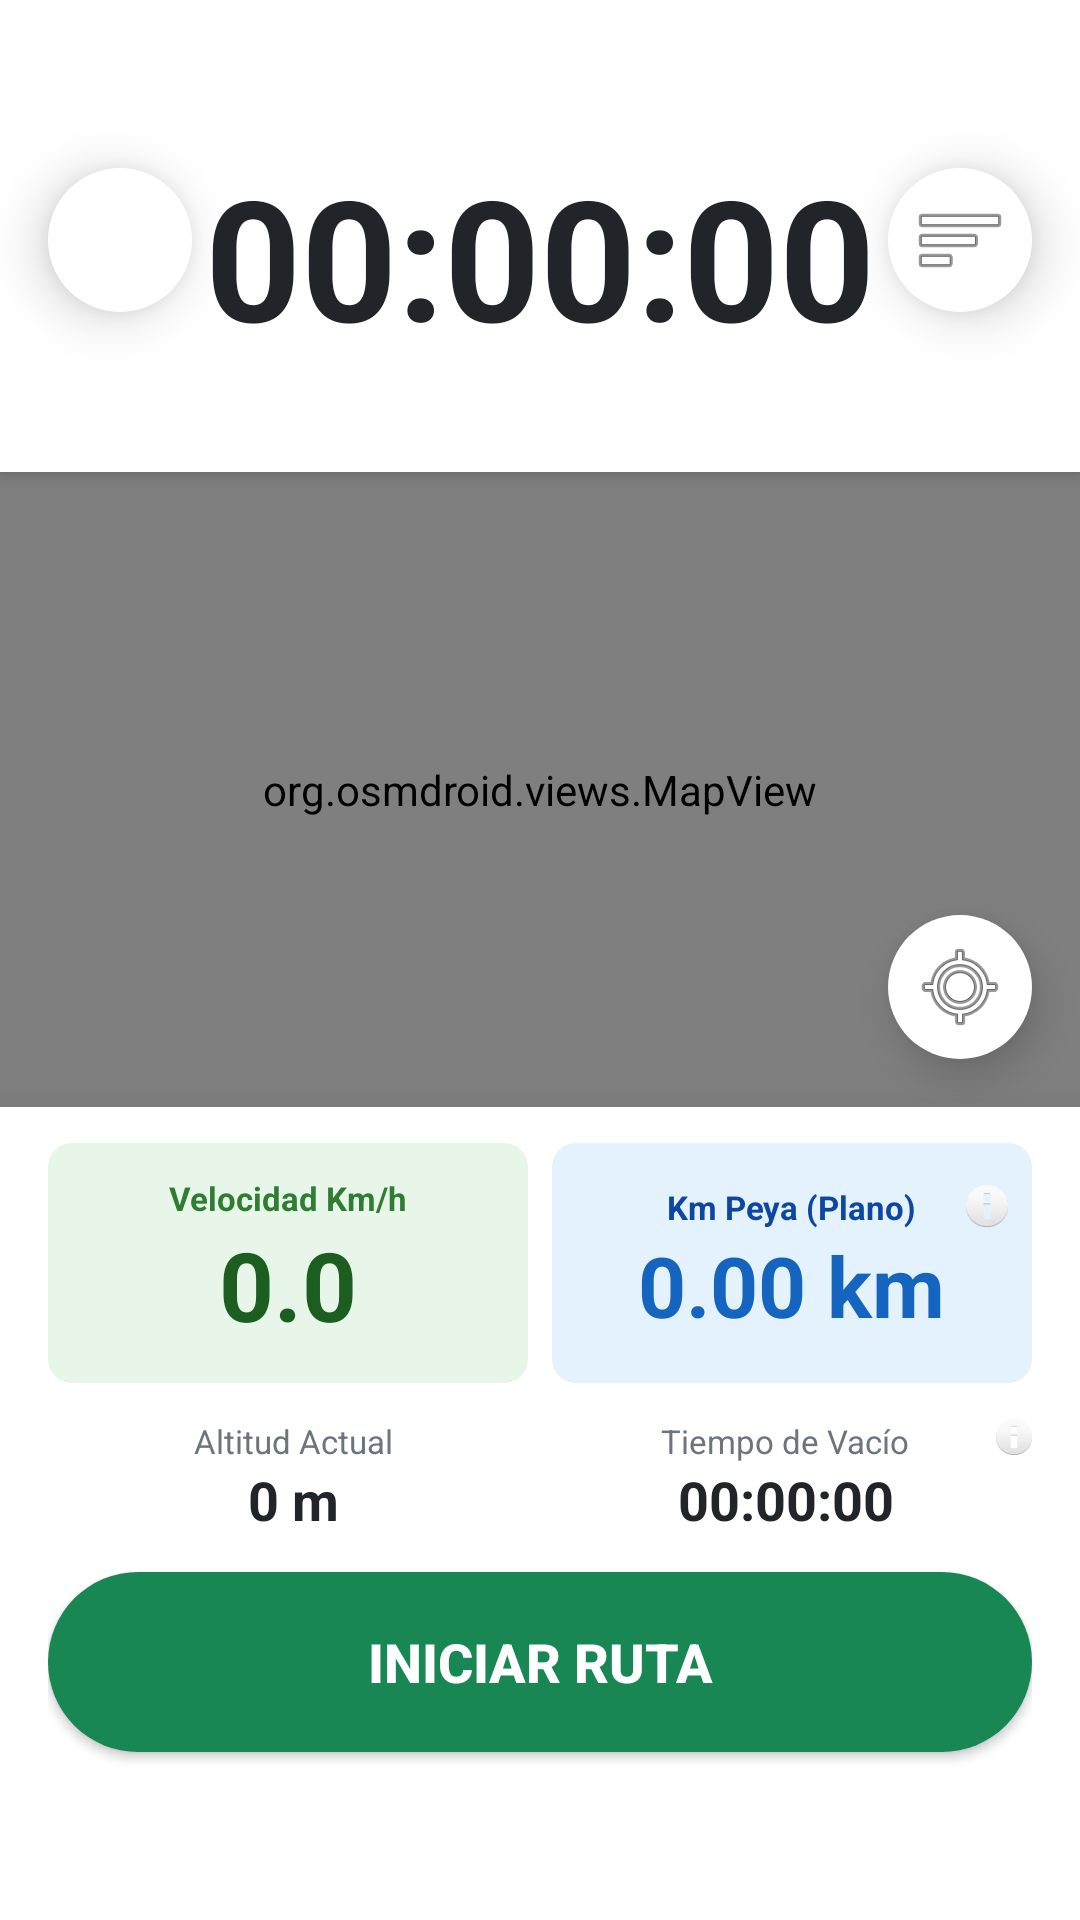

Locate icon controls on the screen. Image size 1080px x 1920px, boxes as bbox=(x1, y1, x2, y2).
info: bbox=(966, 1185, 1008, 1227), bbox=(996, 1426, 1032, 1455)
mylocation: bbox=(888, 915, 1032, 1059)
sort by size: bbox=(888, 168, 1032, 312)
